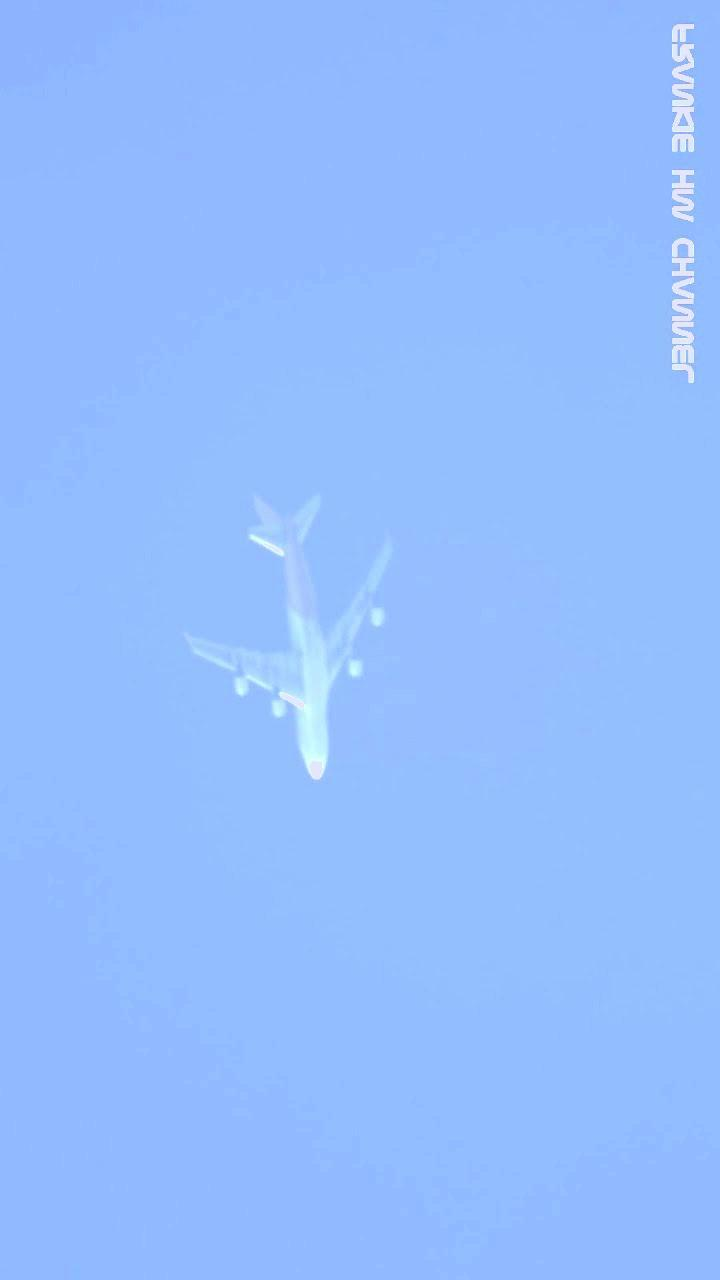Plane: (160, 434, 438, 839)
